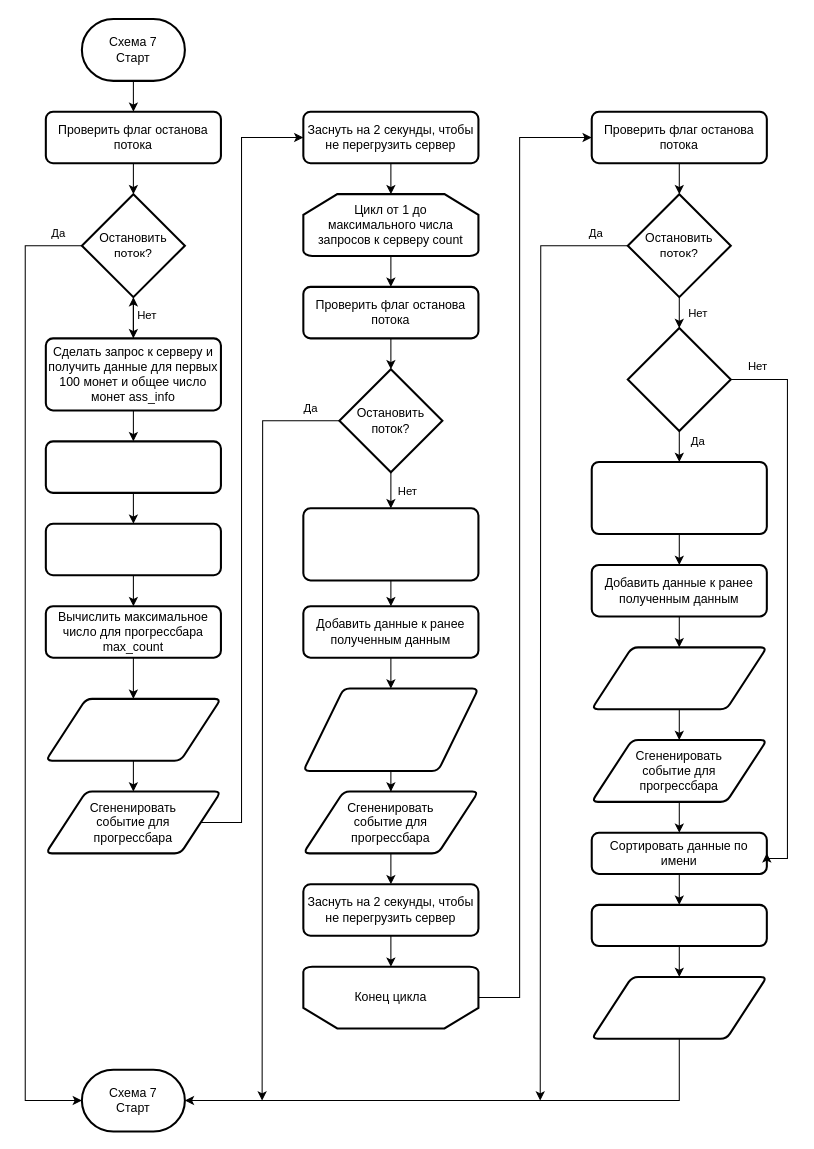
Image size: 814x1149. Some labels were removed from this diagram. The box of each missing label's shape, as (x1, y1, x2, y2) in pixels:
Вычислить число запросов по 100 монет count = ass_info // 100: (44, 440, 221, 493)
Вычислить число монет для последнего запроса rest = ass_info % 100: (44, 522, 221, 576)
Есть остаток монет rest?: (626, 327, 731, 432)
Передать в очередь кортеж из 1 и max_count: (44, 697, 221, 761)
Передать в очередь кортеж из max_count и max_count: (590, 646, 767, 710)
Передать в очередь кортеж из значения счётчика цикла и max_count: (302, 687, 479, 771)
Сгененировать событие для закрытия окна: (590, 975, 767, 1039)
Сделать запрос к серверу и получить данные для остатка монет: (590, 460, 767, 535)
Сделать запрос к серверу и получить данные для очередной сотни монет: (302, 507, 479, 581)
Сохранить данные в файл Справочника: (590, 903, 767, 947)
